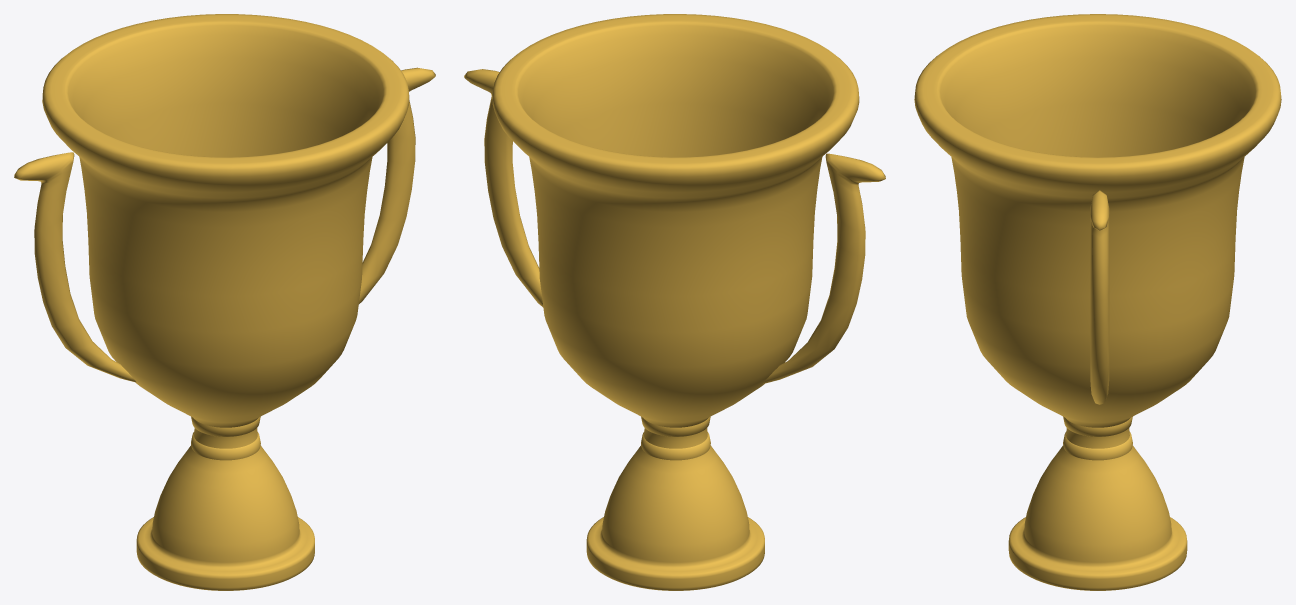
The model's file is src.glb.
3 renders of one model, left to right at view 1: azimuth 30°, elevation 25°; view 2: azimuth 150°, elevation 25°; view 3: azimuth 270°, elevation 25°, orthographic.
Parts seen in each view (by area): view 1: Plane; view 2: Plane; view 3: Plane.
Boxes of the visible parts, x1,y1,x2,y2 form: Plane: (14, 14, 435, 590); Plane: (464, 14, 885, 590); Plane: (914, 14, 1281, 590).
Bounding box in the file's own units: 2.47 × 2.6 × 1.86.
